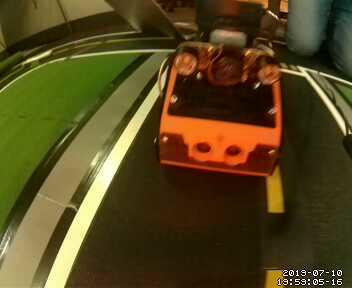pheeno: (153, 1, 281, 183)
